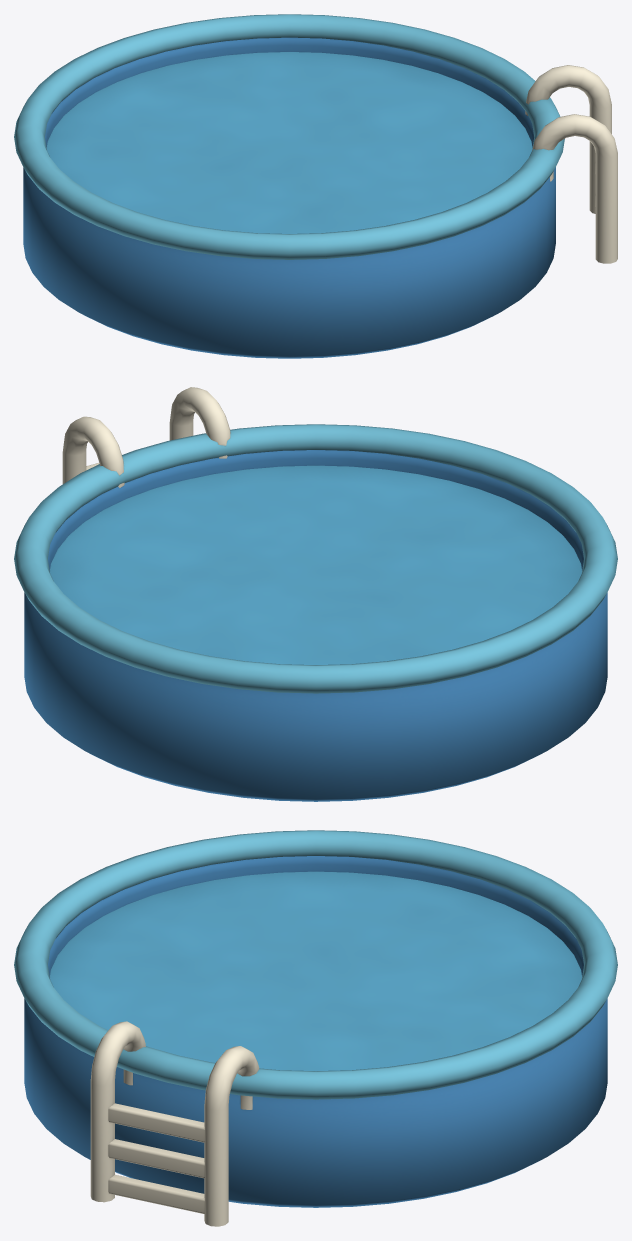
Rendered from pool.fbx.
3 views of the same model, one above another, from view 1: azimuth 30°, elevation 25°; view 2: azimuth 150°, elevation 25°; view 3: azimuth 270°, elevation 25° (orthographic). The views are drawn at different scales.
Visible parts, largest first — view 1: pool; view 2: pool; view 3: pool.
Boxes of the visible parts, x1,y1,x2,y2 form: pool: (14,14,617,358); pool: (14,387,617,801); pool: (14,830,617,1226).
Bounding box in the file's own units: 4400 × 1258 × 4087.
1 material, 1 textured.
